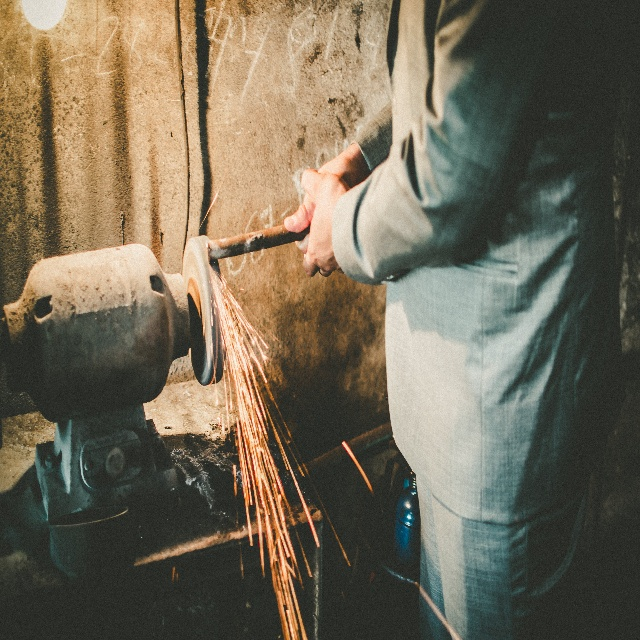Sin_guantes: (280, 165, 364, 229), (297, 169, 344, 276)
